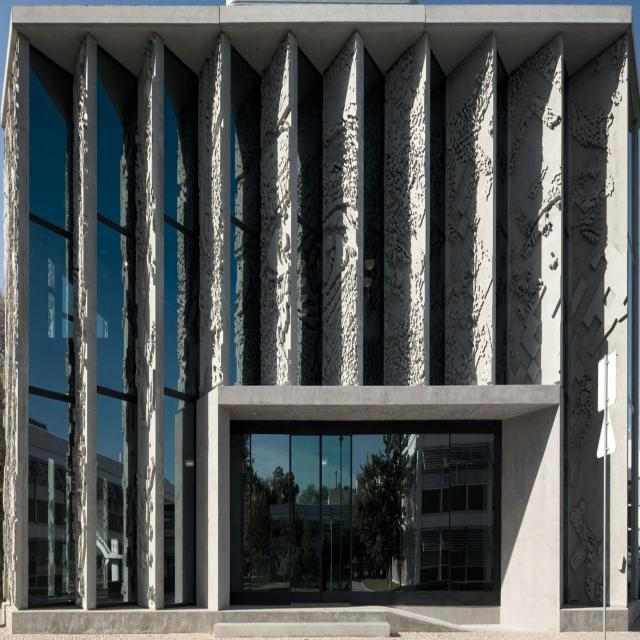door: (290, 430, 354, 598)
window: (238, 428, 500, 607), (27, 45, 76, 608), (98, 41, 138, 608), (165, 44, 199, 603), (230, 45, 261, 387), (298, 47, 324, 387), (362, 46, 386, 385), (430, 51, 447, 386), (496, 54, 509, 385), (563, 60, 569, 606)
